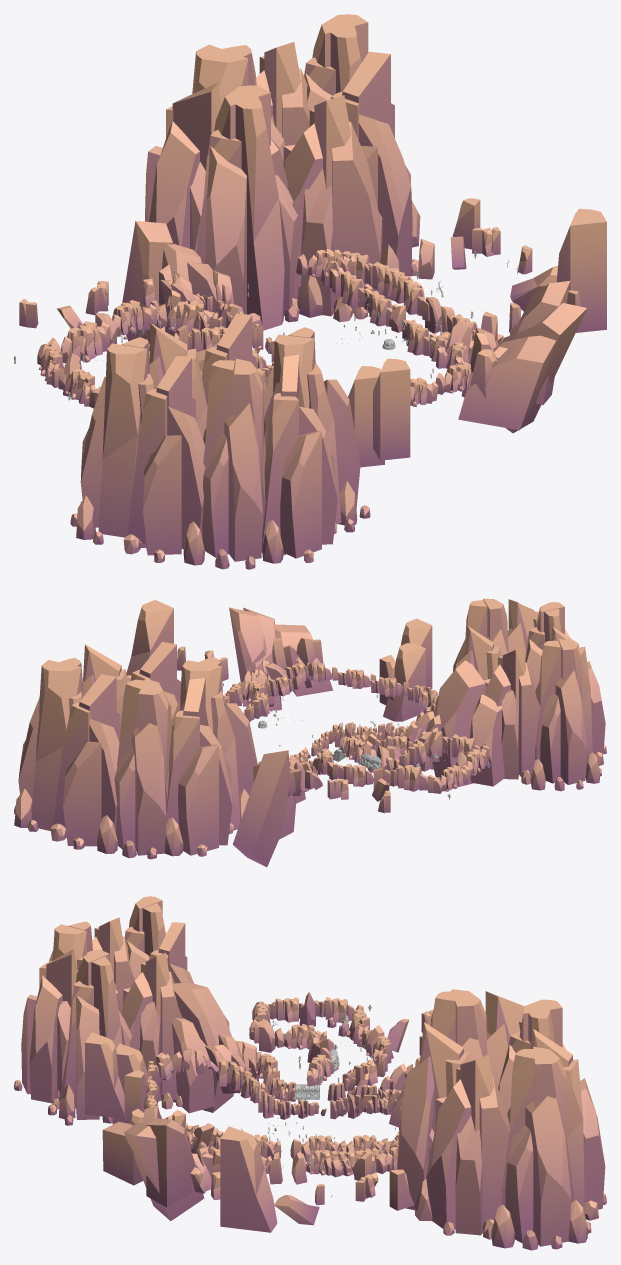
File: Tes lagi.fbx
The picture shows the model from 3 angles, top to bottom: view 1: azimuth 30°, elevation 25°; view 2: azimuth 150°, elevation 25°; view 3: azimuth 270°, elevation 25°; orthographic projection. The views are drawn at different scales.
Visible parts, largest first — view 1: Small_cliff_type4.001; view 2: Small_cliff_type4.001; view 3: Small_cliff_type4.001.
Part boxes in pixels (x1=…): Small_cliff_type4.001: x1=19, y1=14, x2=606, y2=569; Small_cliff_type4.001: x1=14, y1=598, x2=606, y2=867; Small_cliff_type4.001: x1=14, y1=896, x2=606, y2=1250.
Size of the model in its own units: 36962 by 14873 by 39553.
